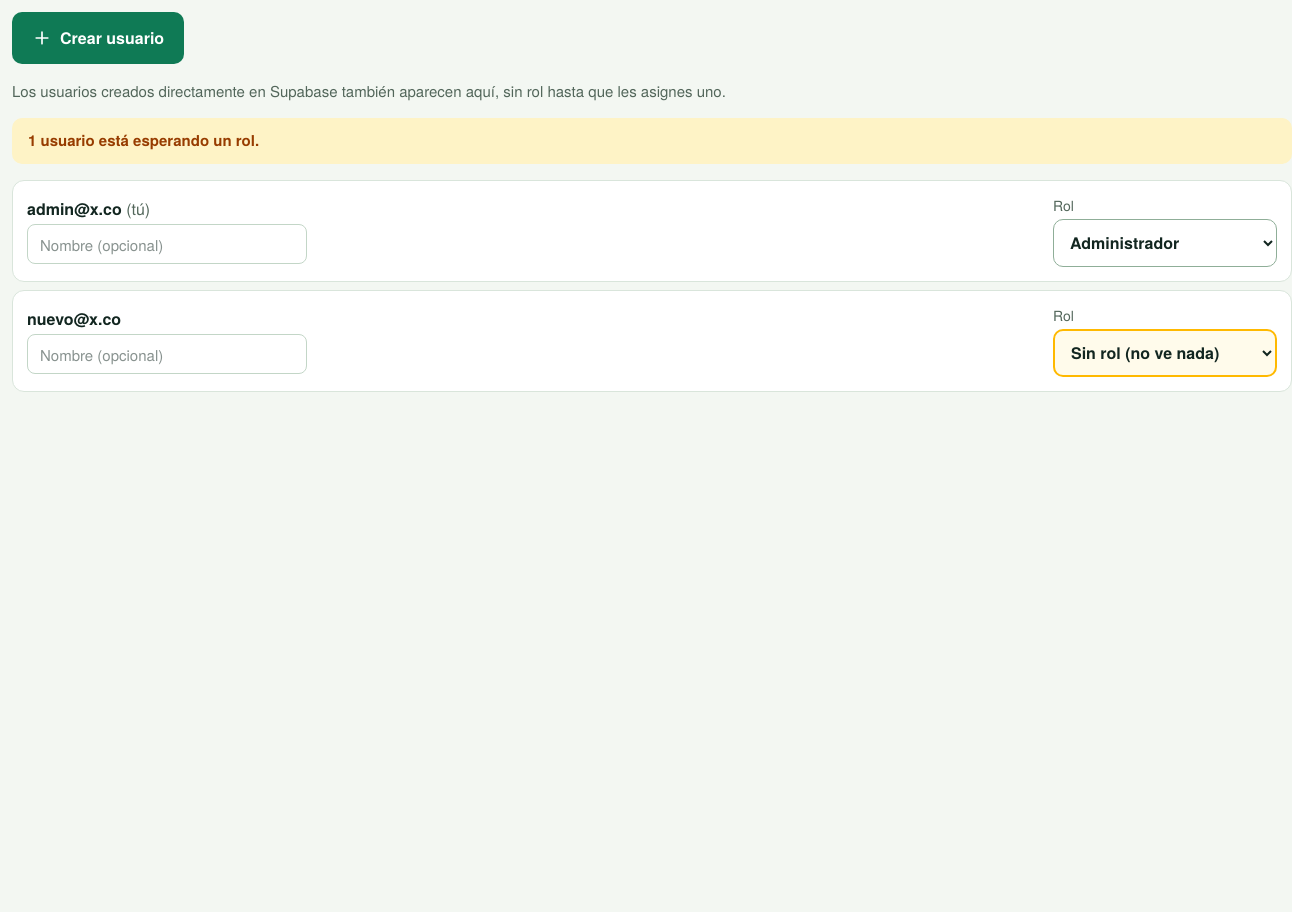
it: Crear usuario › pide correo válido, contraseña de 8 o más y un rol
The width and height of the screenshot is (1292, 912).
Click the button "Crear usuario" at (98, 38), box [12,12,184,64]
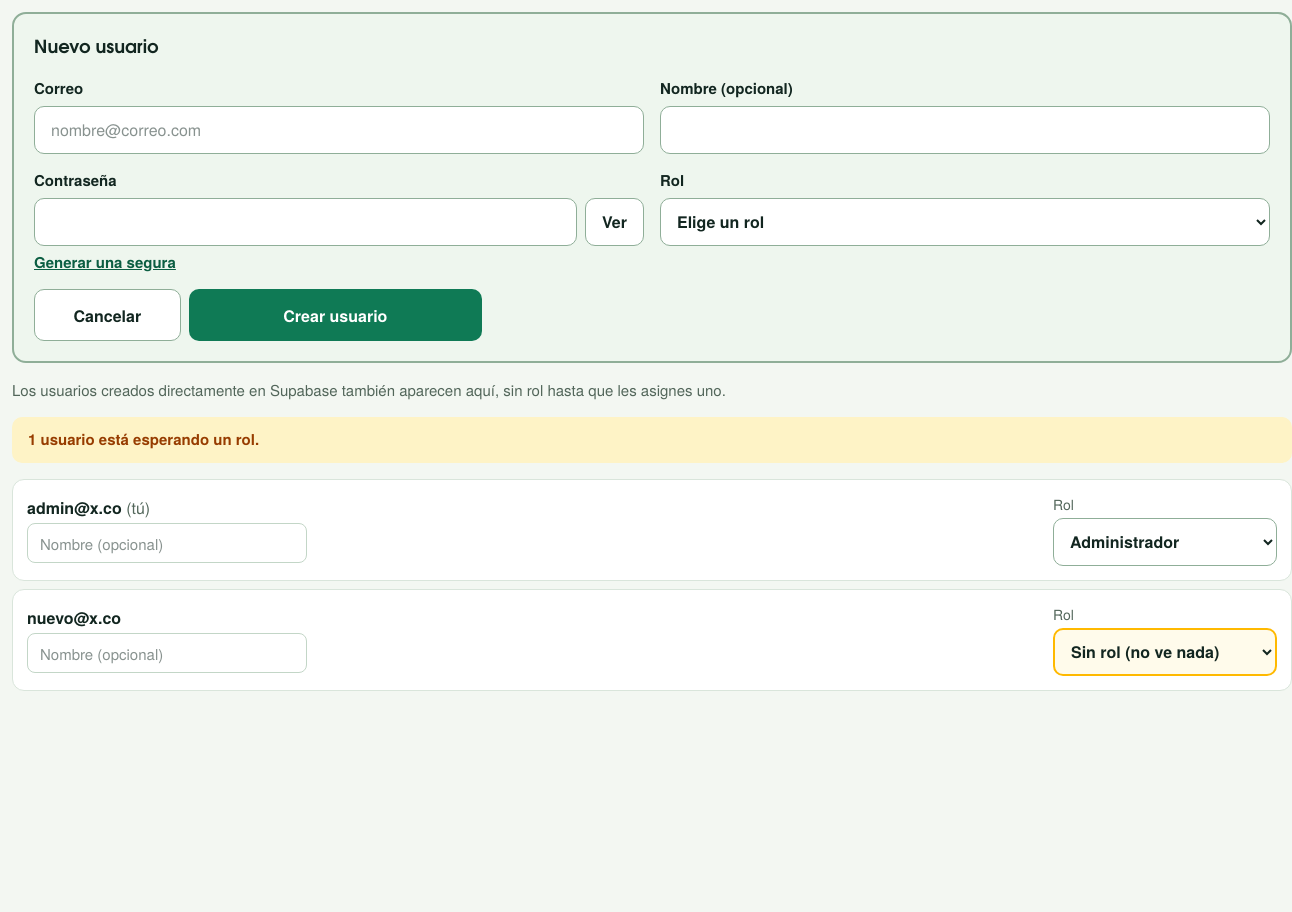
Type "malo" into the field labelled "Correo" at (339, 130), box [34,106,644,154]
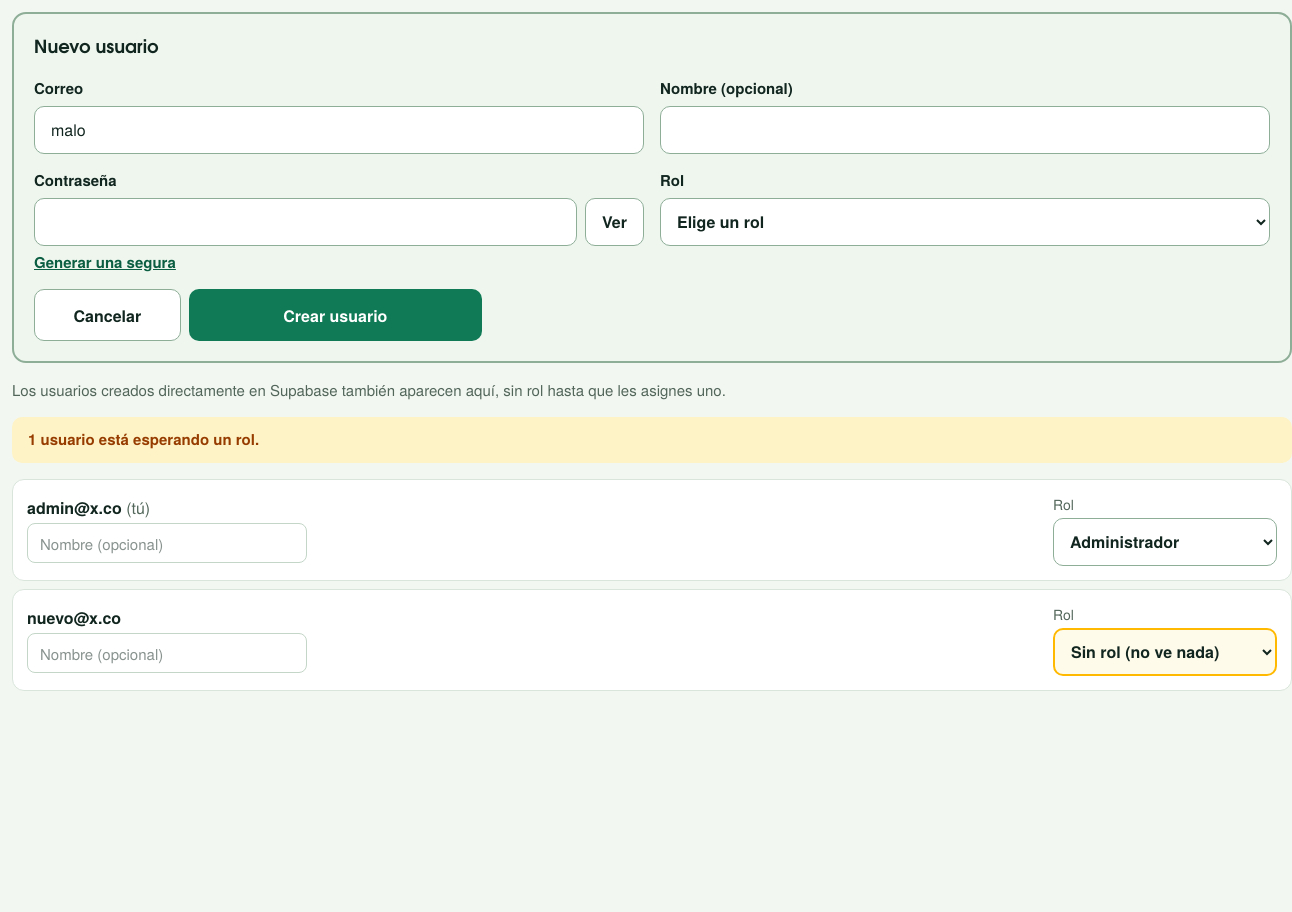
Type "123" into the password field labelled "Contraseña" at (305, 222), box [34,198,577,246]
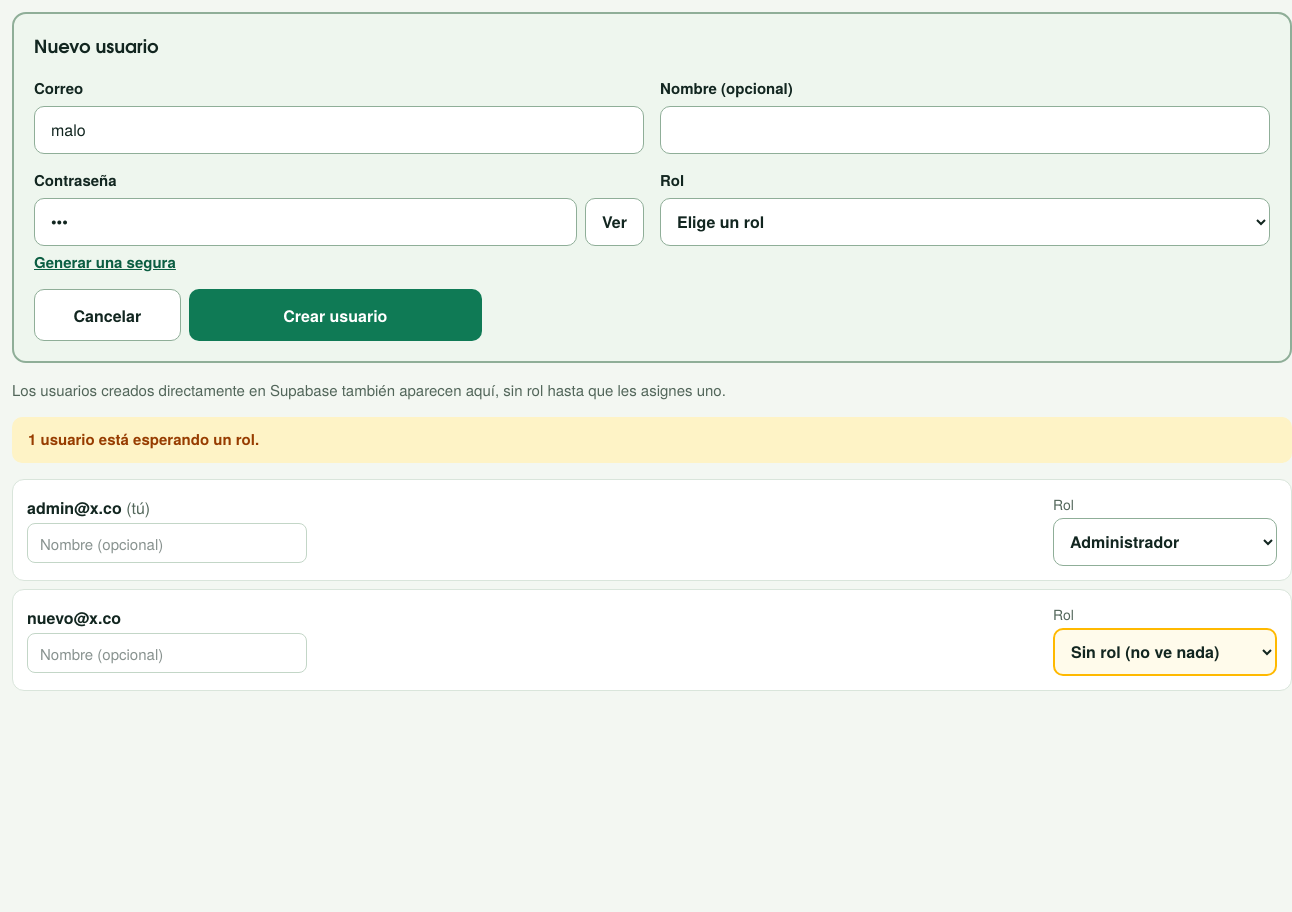
Click the button "Crear usuario" at (335, 315), box [189,289,482,341]
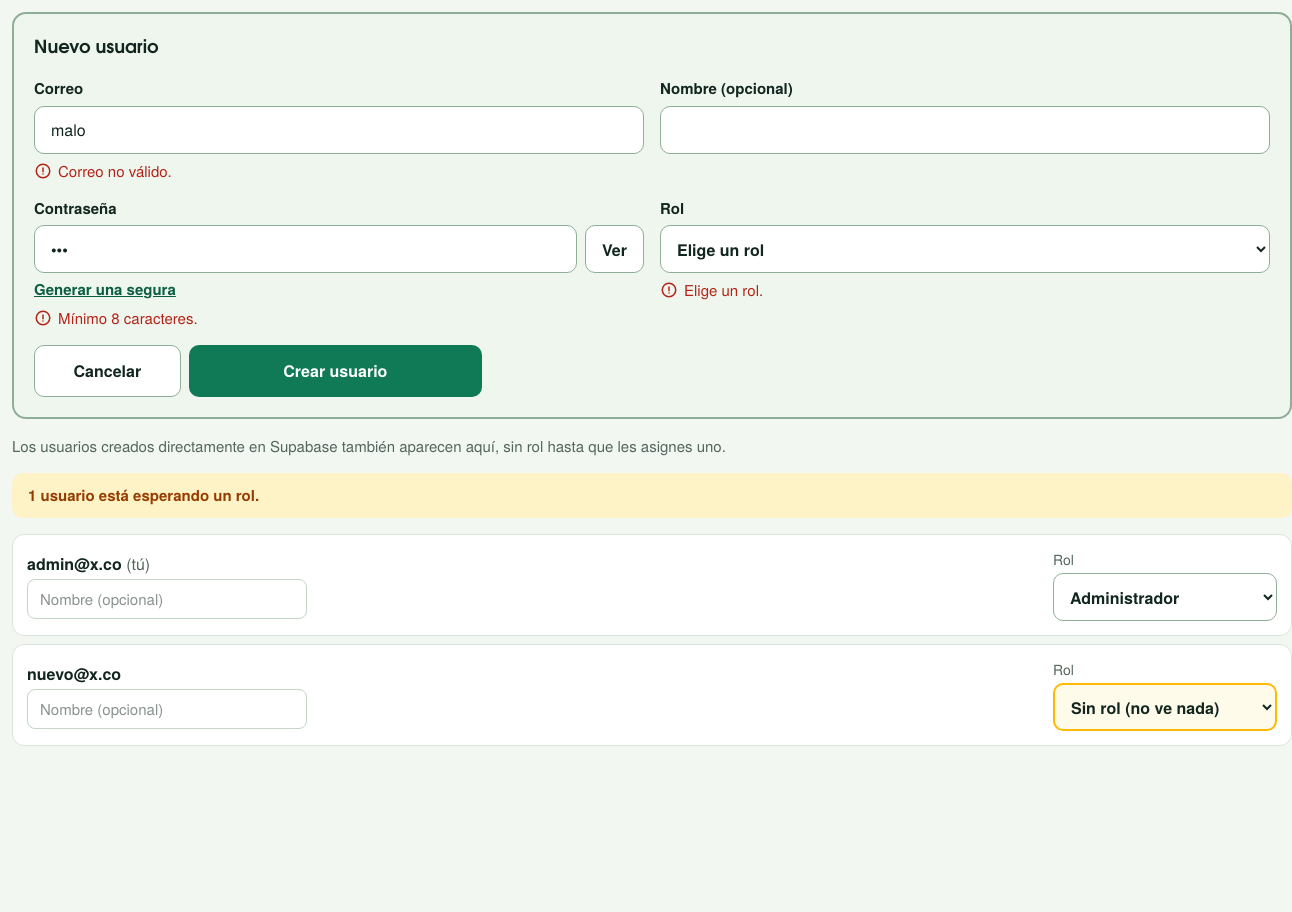
Expected: the text "Correo no válido." is shown, [34,160,172,181]
Expected: the text "Mínimo 8 caracteres." is shown, [34,307,198,328]
Expected: the text "Elige un rol." is shown, [660,279,763,300]
